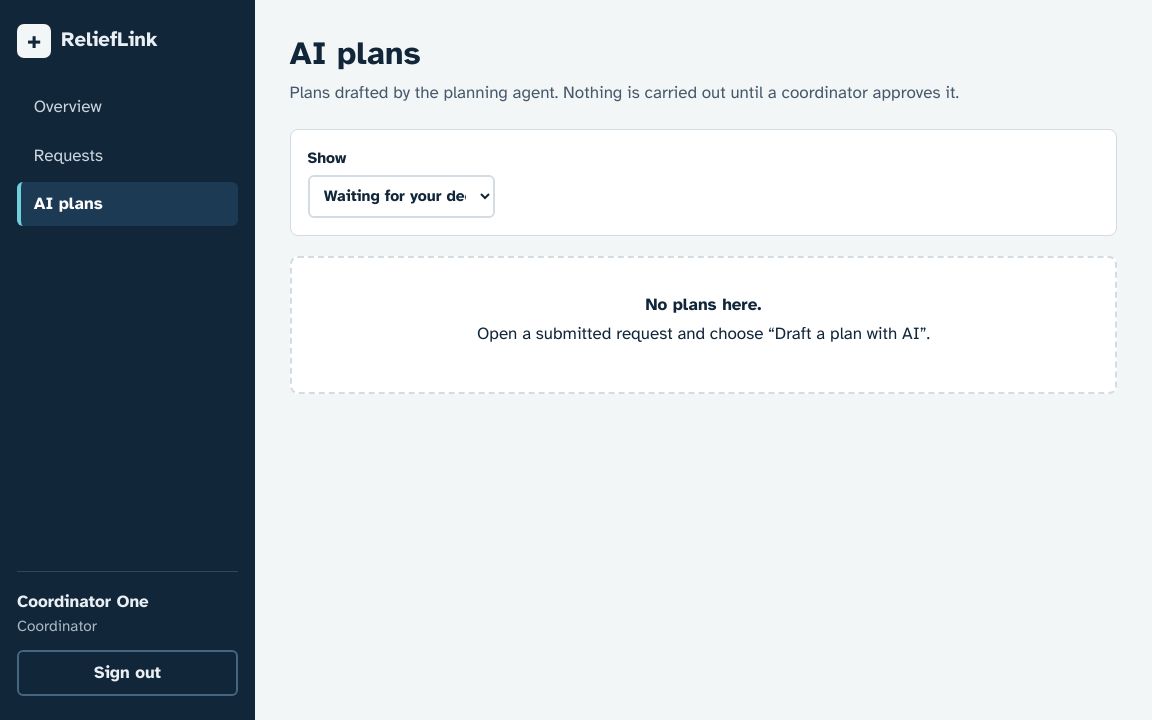
Test: Navigation › signs out and returns to the sign in page
The image size is (1152, 720).
Click the button "Sign out" at (128, 673), box [17, 650, 238, 696]
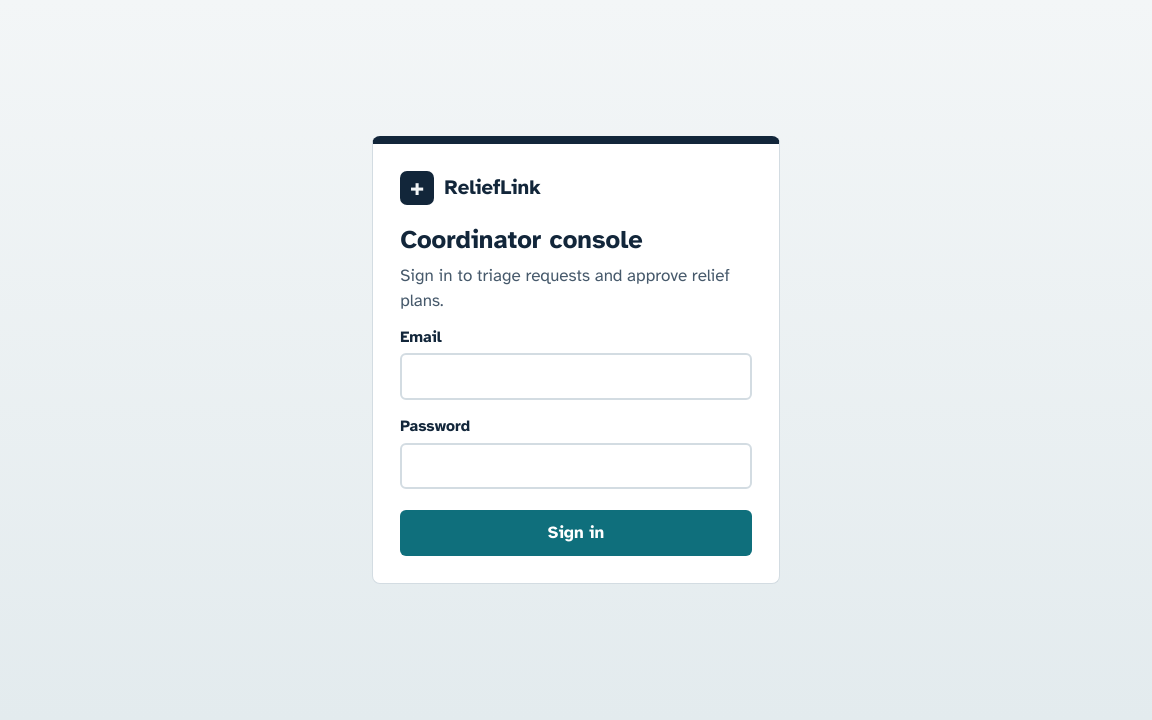
Now the heading "Coordinator console" is shown, box [400, 224, 643, 255]
